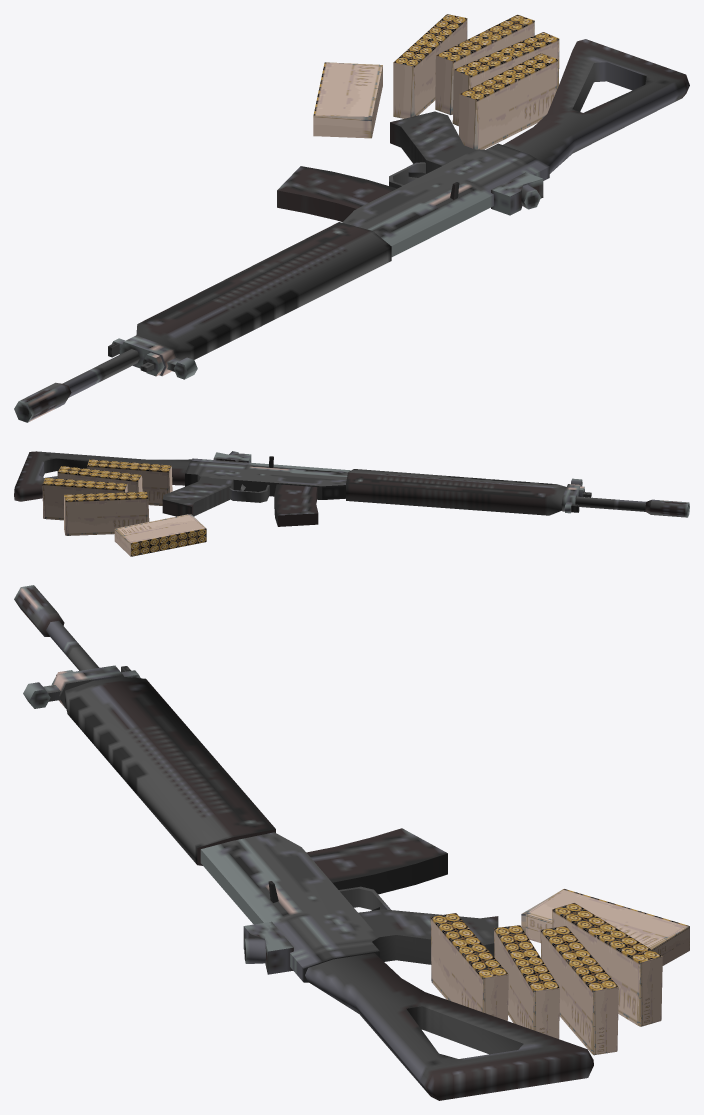
File: icon0.ico.obj
3 views of the same model, one above another, from view 1: azimuth 30°, elevation 25°; view 2: azimuth 150°, elevation 25°; view 3: azimuth 270°, elevation 25° (orthographic). The views are drawn at different scales.
Bounding box in the file's own units: 4.64 × 0.2827 × 2.68.
1 material, 1 textured.
